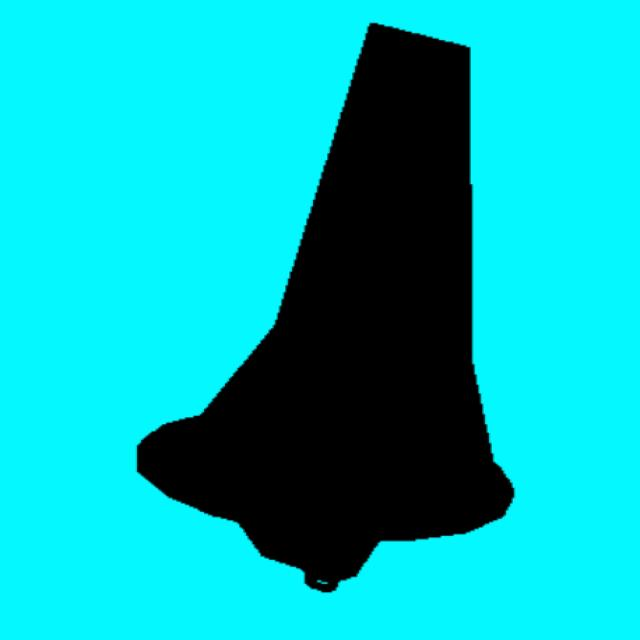BlackBuoy: (138, 25, 514, 591)
